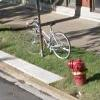Hydrant: (61, 47, 91, 86)
